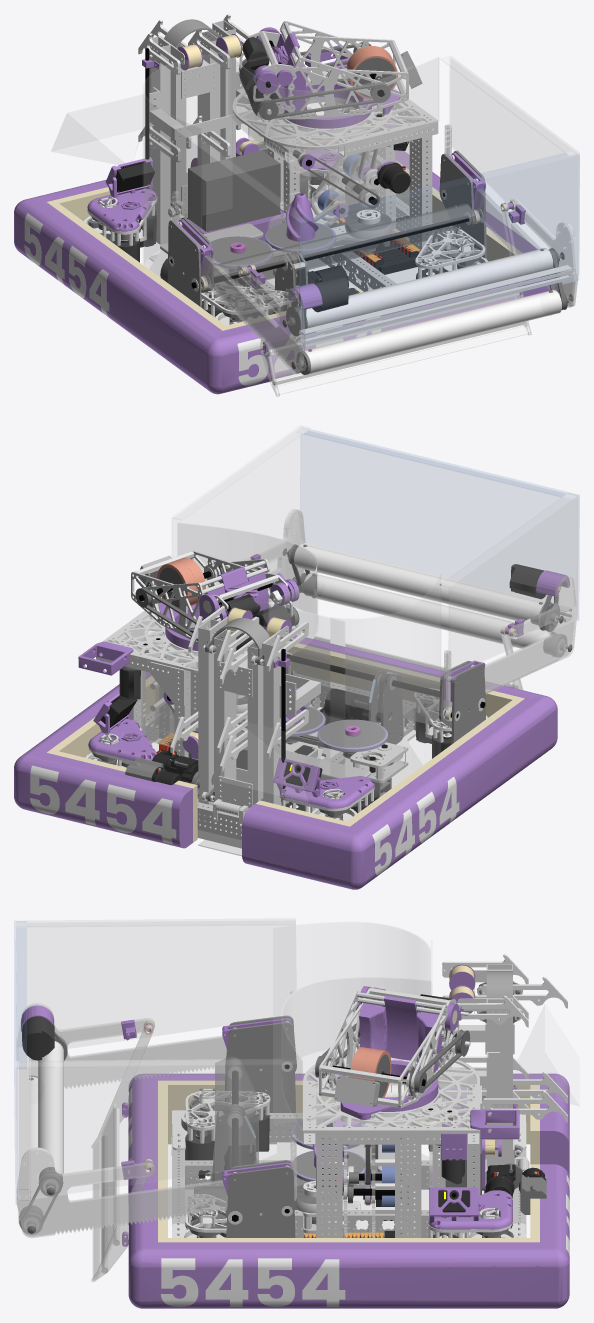
The model's file is 2026 - 5454 main robot - simplified.fbx.
The picture shows the model from 3 angles, top to bottom: view 1: azimuth 30°, elevation 25°; view 2: azimuth 150°, elevation 25°; view 3: azimuth 270°, elevation 25°; orthographic projection. The views are drawn at different scales.
Parts seen in each view (by area): view 1: Part 4, 5454-26-P-110001, Part 2.001, Part 1, Fuel wall, Part 3, Deadaxle Tube_23.995_in, Robot Battery, Cover, Deadaxle Tube_23.62_in, 5454-26-P-6101, 5454-26-P-2107 (+67 smaller); view 2: 5454-26-P-110001, Part 4, Part 1, Part 2.001, Part 3, Fuel wall, Cover, Deadaxle Tube_23.62_in, mesh585_mesh, Deadaxle Tube_23.995_in, 5454-26-P-2107, 5454-26-P-110005 (+45 smaller); view 3: 5454-26-P-110001, Part 3, Part 2.001, Part 1, 5454-26-P-2101, 5454-26-P-2101.002, Fuel wall, 5454-26-P-4121, 5454-26-P-2101.001, 5454-26-P-4101, Cover, 5454-26-P-2103 (+63 smaller).
Part boxes in pixels (<box>): Part 4: <box>296,151,579,347</box>; 5454-26-P-110001: <box>14,139,558,394</box>; Part 2.001: <box>171,124,309,344</box>; Part 1: <box>143,49,232,281</box>; Fuel wall: <box>228,51,438,154</box>; Part 3: <box>441,56,579,273</box>; Deadaxle Tube_23.995_in: <box>304,290,561,373</box>; Robot Battery: <box>188,150,280,231</box>; Cover: <box>202,203,475,293</box>; Deadaxle Tube_23.62_in: <box>306,248,553,328</box>; 5454-26-P-6101: <box>287,142,409,227</box>; 5454-26-P-2107: <box>172,191,303,374</box>; 5454-26-P-110001: <box>14,635,557,889</box>; Part 4: <box>297,428,579,620</box>; Part 1: <box>264,574,440,796</box>; Part 2.001: <box>440,493,577,675</box>; Part 3: <box>172,426,309,557</box>; Fuel wall: <box>177,523,317,656</box>; Cover: <box>285,644,440,725</box>; Deadaxle Tube_23.62_in: <box>294,544,544,620</box>; mesh585_mesh: <box>219,720,324,802</box>; Deadaxle Tube_23.995_in: <box>304,573,550,648</box>; 5454-26-P-2107: <box>446,576,576,711</box>; 5454-26-P-110005: <box>286,641,524,717</box>; 5454-26-P-110001: <box>128,1073,569,1308</box>; Part 3: <box>16,1059,295,1200</box>; Part 2.001: <box>16,919,295,1048</box>; Part 1: <box>273,922,431,1123</box>; 5454-26-P-2101: <box>16,1136,296,1238</box>; 5454-26-P-2101.002: <box>17,1134,296,1236</box>; Fuel wall: <box>281,977,430,1129</box>; 5454-26-P-4121: <box>303,1055,479,1130</box>; 5454-26-P-2101.001: <box>17,991,293,1088</box>; 5454-26-P-4101: <box>303,1056,480,1132</box>; Cover: <box>215,1056,258,1181</box>; 5454-26-P-2103: <box>226,1166,295,1237</box>.
Size of the model in its own units: 0.8546 by 0.542 by 1.1.
